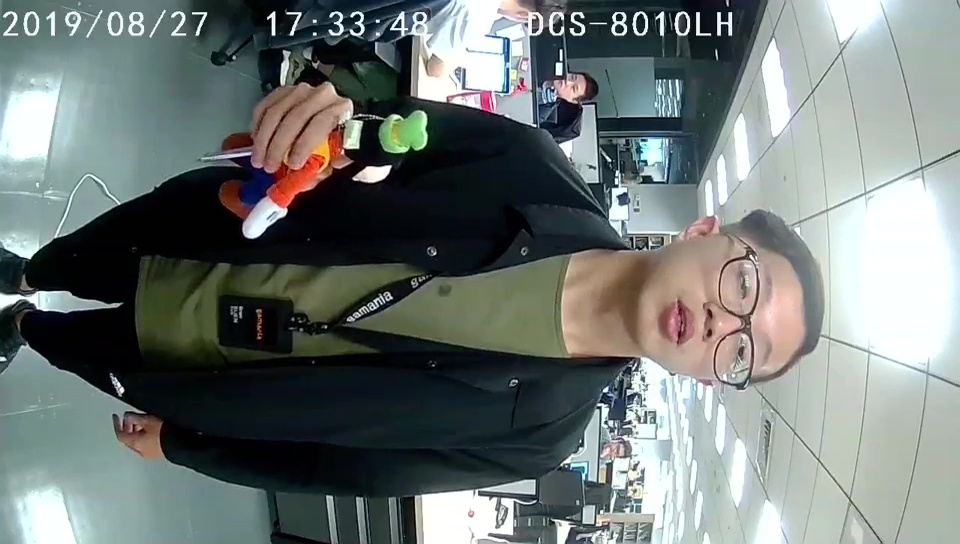goofy: (222, 109, 427, 239)
